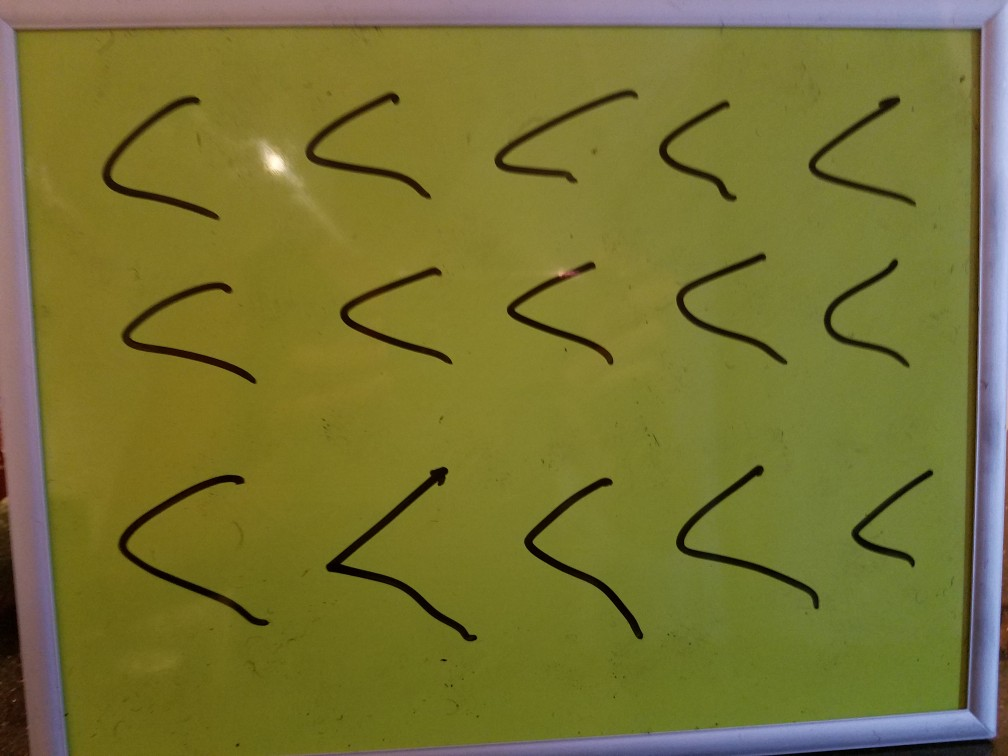<: (86, 441, 281, 645), (306, 438, 480, 665), (512, 453, 650, 644), (662, 450, 820, 611), (82, 80, 229, 236), (291, 74, 450, 205), (483, 80, 645, 207), (801, 245, 934, 387), (326, 250, 473, 377), (109, 265, 254, 388), (666, 241, 794, 379), (803, 82, 923, 216), (497, 248, 615, 376), (839, 454, 945, 587), (650, 91, 744, 210)
